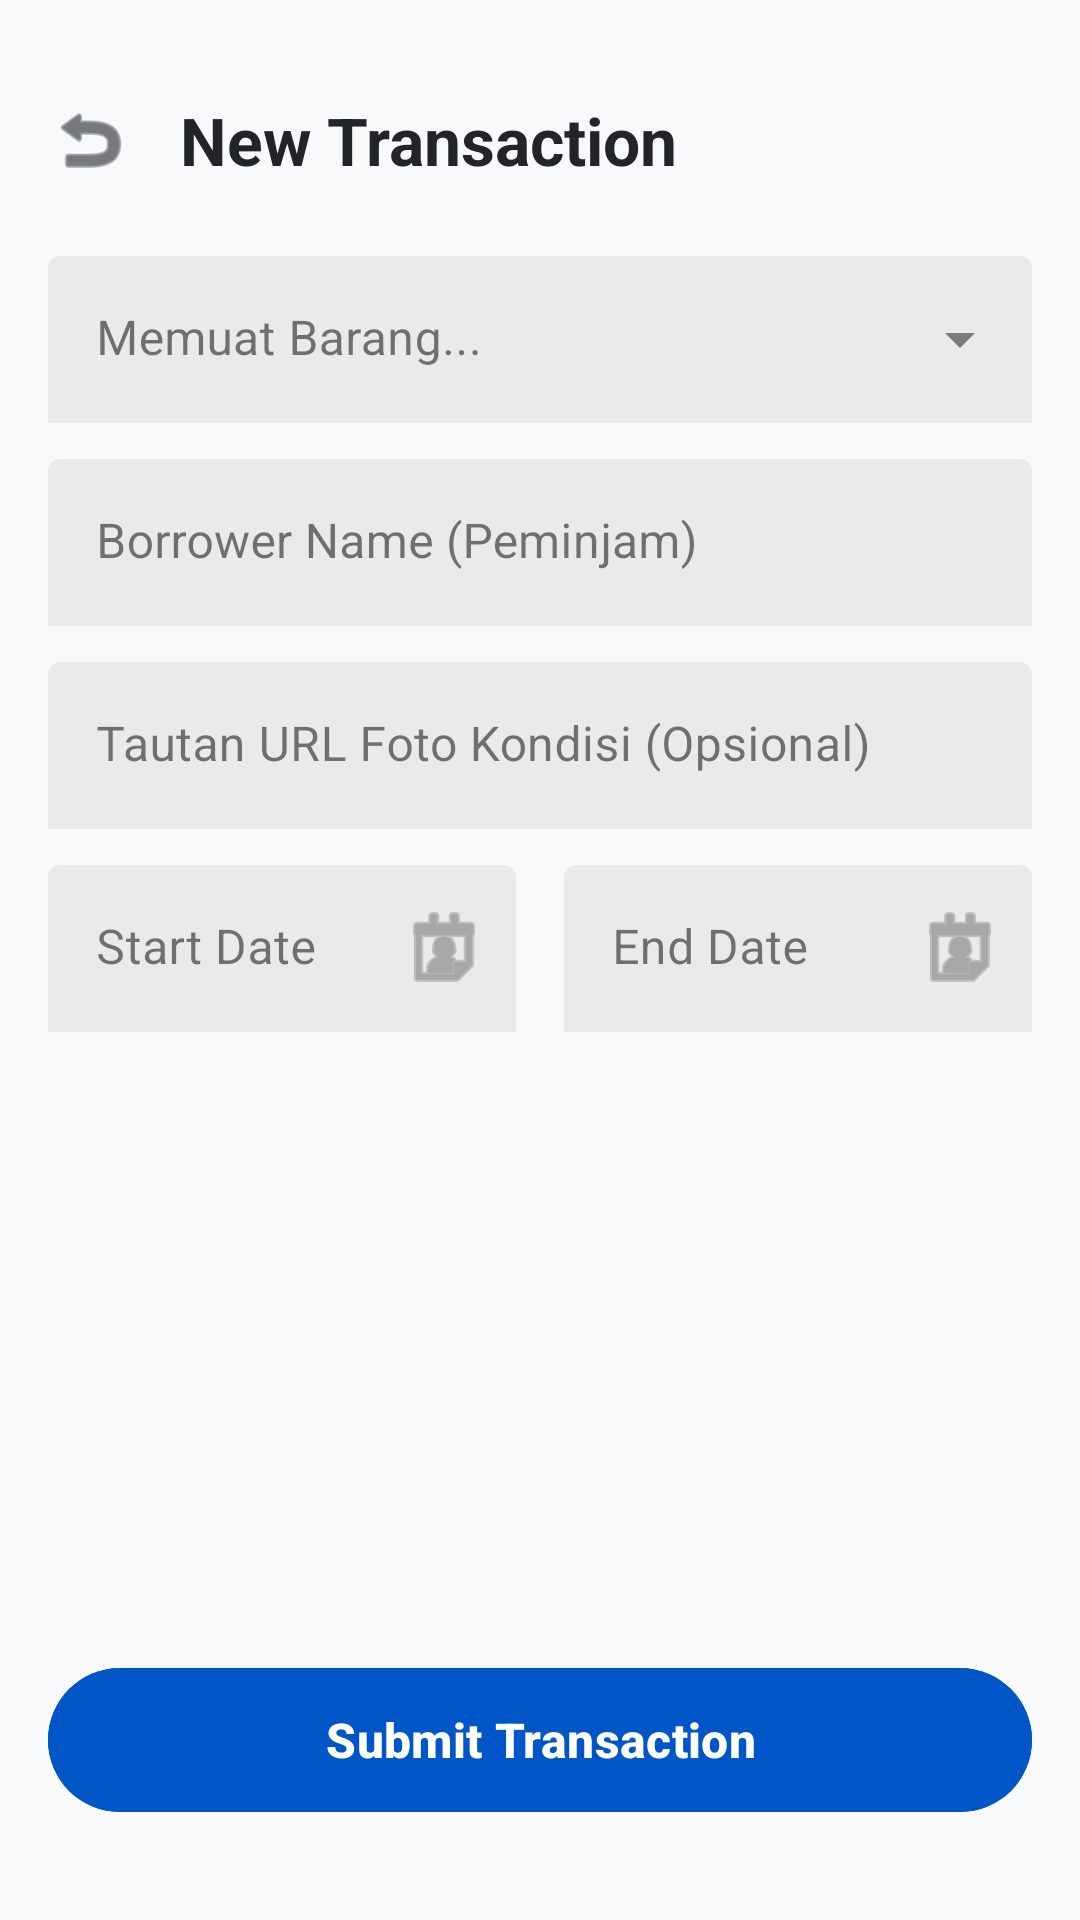

Where to tap for icons on this 1080×1920 app screen, as (x,y):
revert: (91,140)
